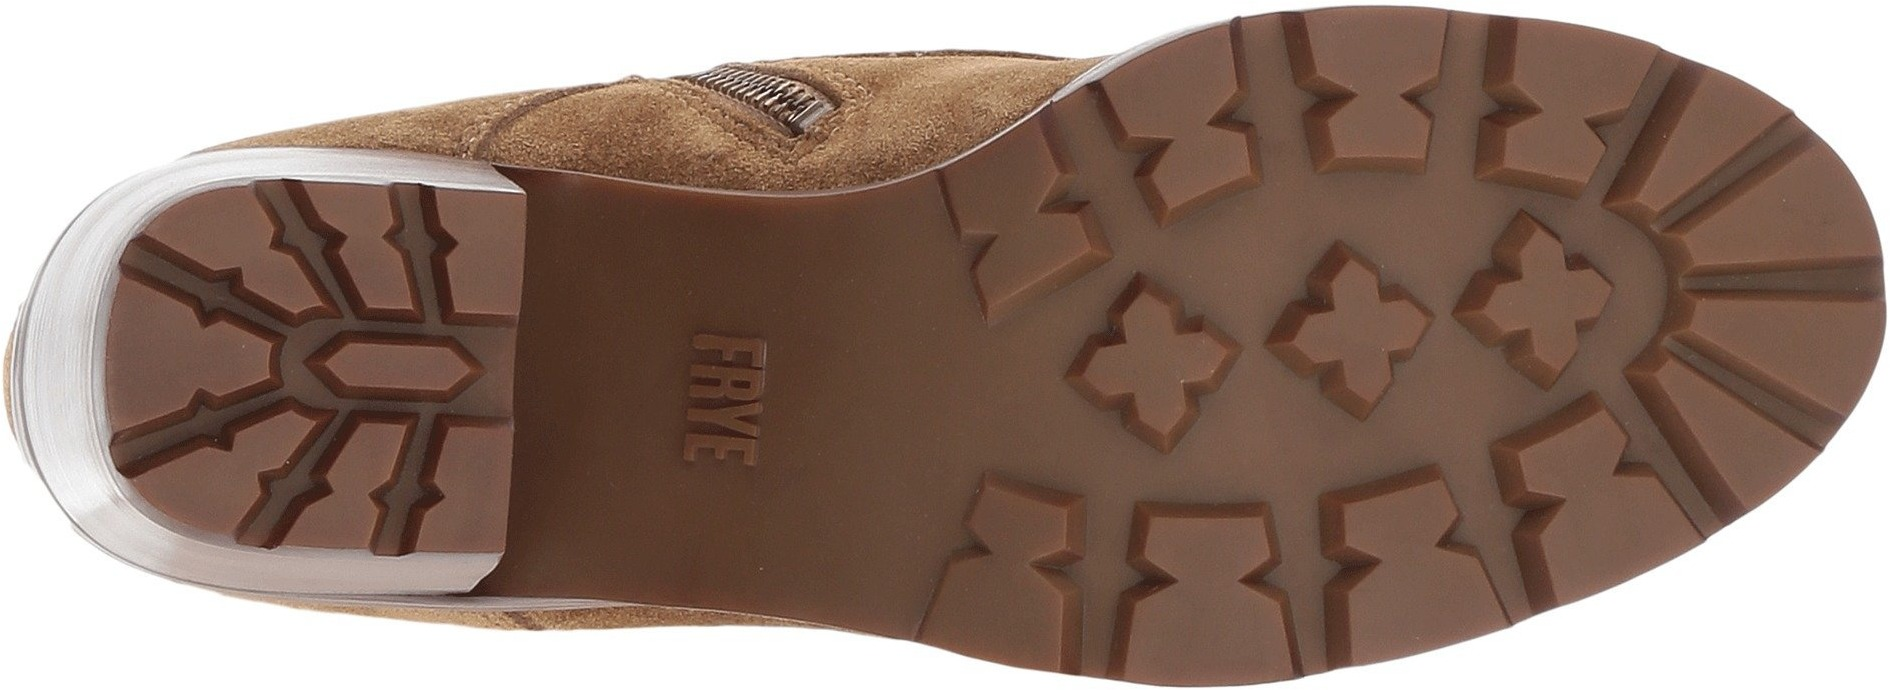bowtie: (1472, 405, 1741, 627), (1129, 467, 1364, 673), (1296, 463, 1522, 674), (1096, 479, 1311, 688), (1477, 4, 1678, 212), (224, 144, 442, 331), (1274, 4, 1465, 201), (262, 415, 427, 581)
exclude: (510, 177, 909, 637)
polygon: (293, 334, 494, 414)
quad: (1624, 174, 1877, 407)
star: (1051, 258, 1249, 455), (1250, 234, 1438, 425), (1446, 212, 1621, 391)
text: (630, 315, 833, 498)
